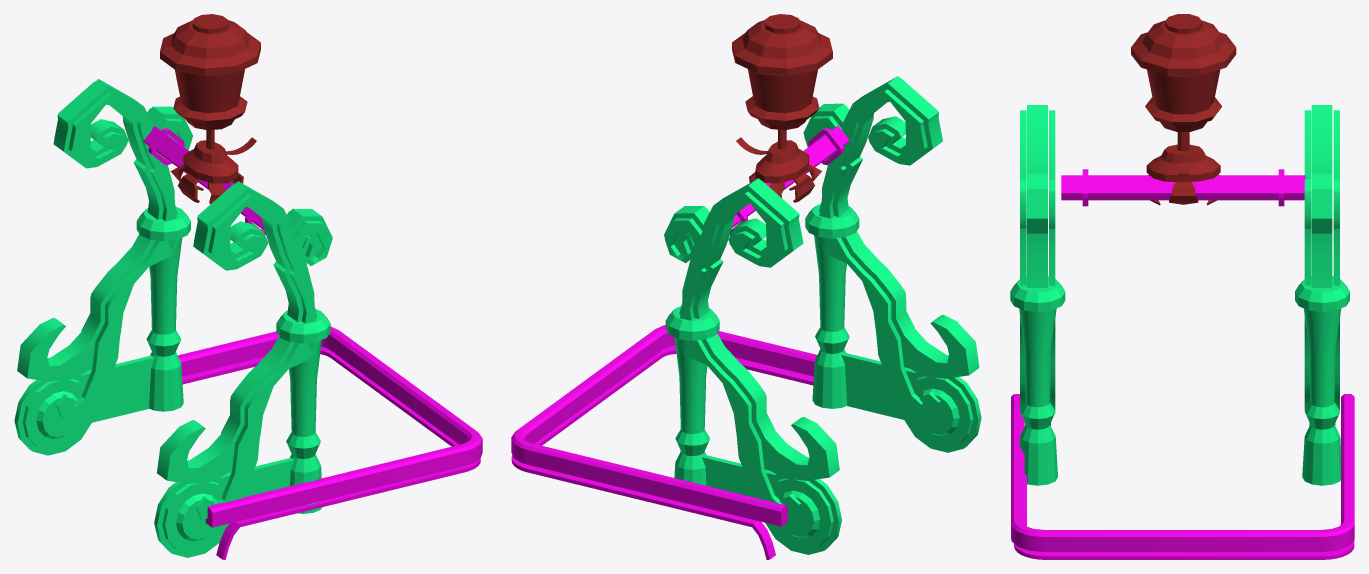
The model's file is BirdUp_Light_Street.fbx.
3 views of the same model, side by side, from view 1: azimuth 30°, elevation 25°; view 2: azimuth 150°, elevation 25°; view 3: azimuth 270°, elevation 25° (orthographic).
Parts seen in each view (by area): view 1: Line030, Line029, Rectangle012, Cylinder013, Rectangle011, Box005; view 2: Line029, Line030, Rectangle012, Cylinder013, Rectangle011, Box005; view 3: Line030, Line029, Cylinder013, Rectangle012, Box005, Rectangle011.
Part boxes in pixels (x1,y1,x2,y2): Line030: [14, 79, 192, 455]; Line029: [154, 181, 332, 557]; Rectangle012: [178, 326, 482, 527]; Cylinder013: [160, 14, 260, 204]; Rectangle011: [182, 346, 480, 559]; Box005: [143, 126, 265, 234]; Line029: [803, 76, 981, 452]; Line030: [664, 178, 841, 554]; Rectangle012: [511, 325, 817, 526]; Cylinder013: [732, 14, 832, 202]; Rectangle011: [511, 345, 813, 559]; Box005: [730, 126, 849, 235]; Line030: [1295, 105, 1349, 485]; Line029: [1010, 105, 1065, 485]; Cylinder013: [1131, 14, 1236, 205]; Rectangle012: [1011, 394, 1354, 551]; Box005: [1061, 169, 1305, 206]; Rectangle011: [1014, 474, 1354, 559].
Bounding box in the file's own units: 117 × 158 × 105.
